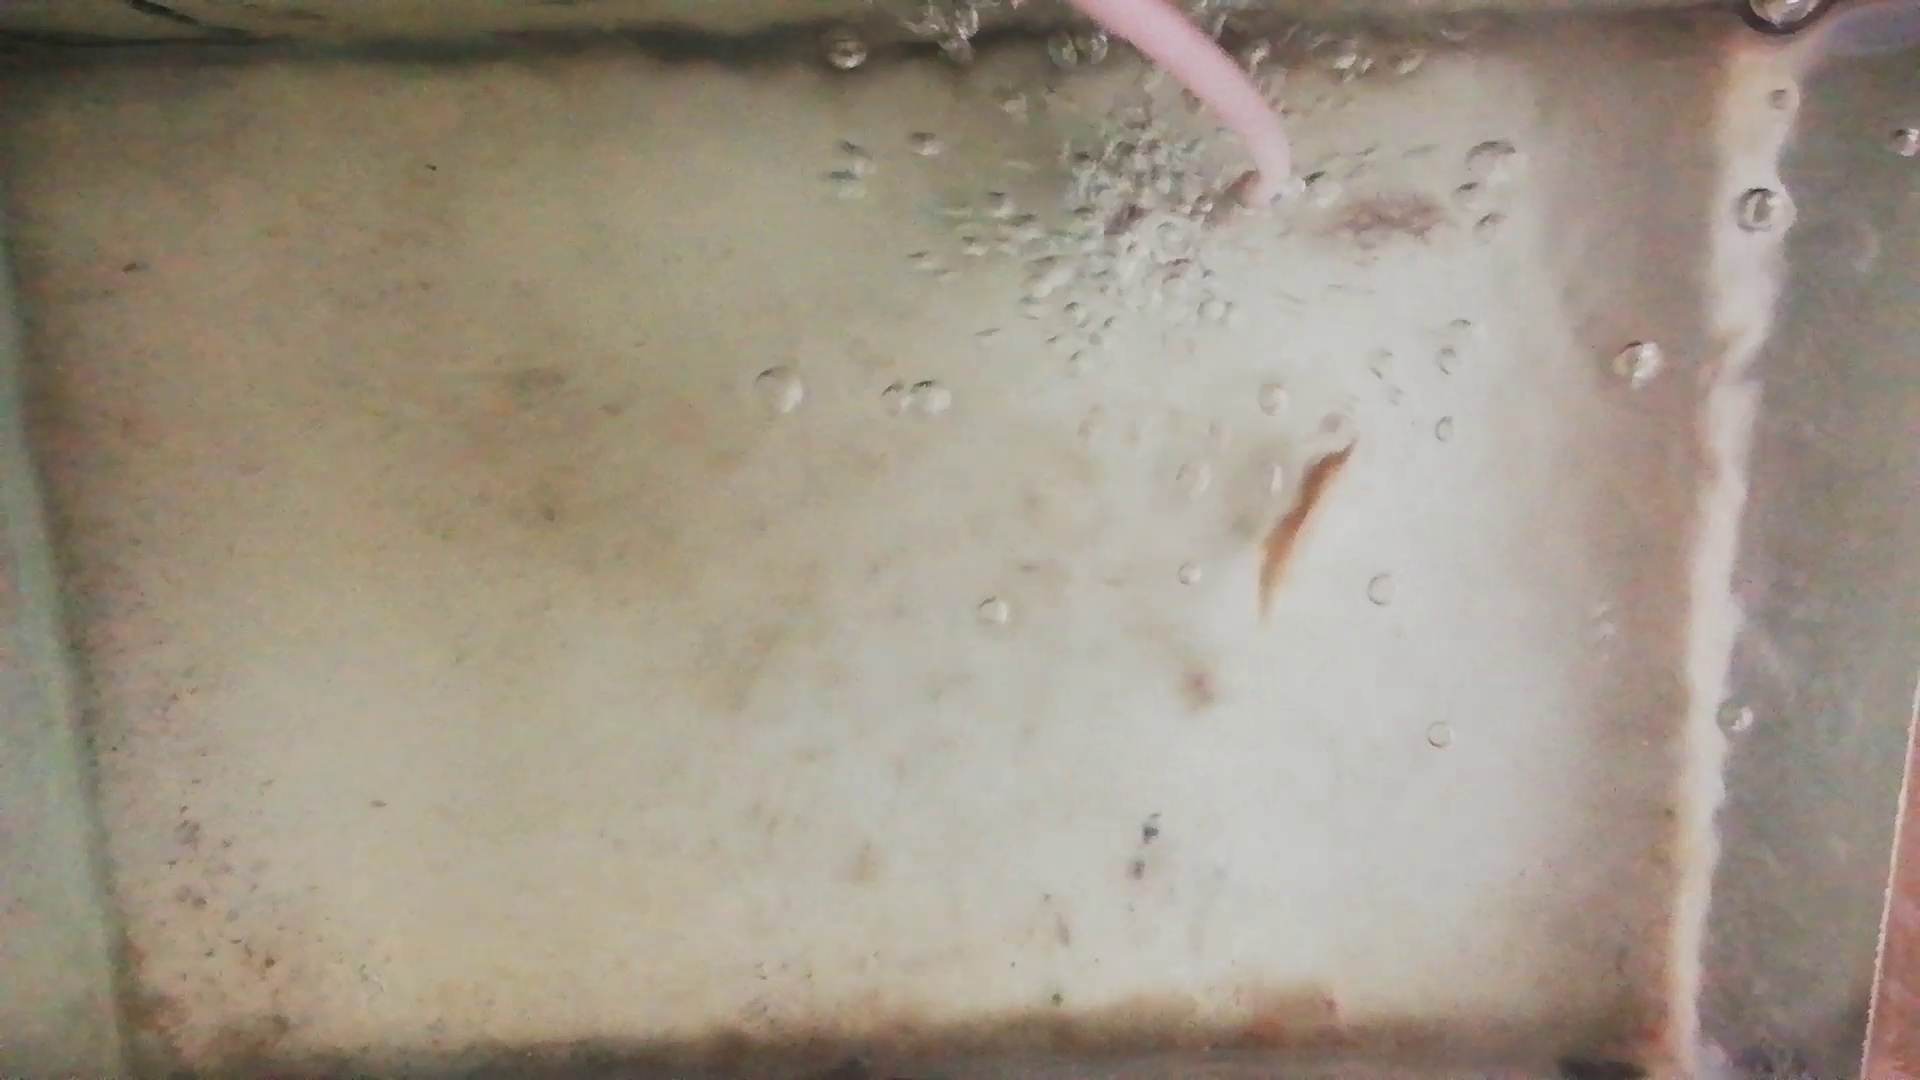fish: (1261, 433, 1357, 611), (1323, 191, 1452, 247)
